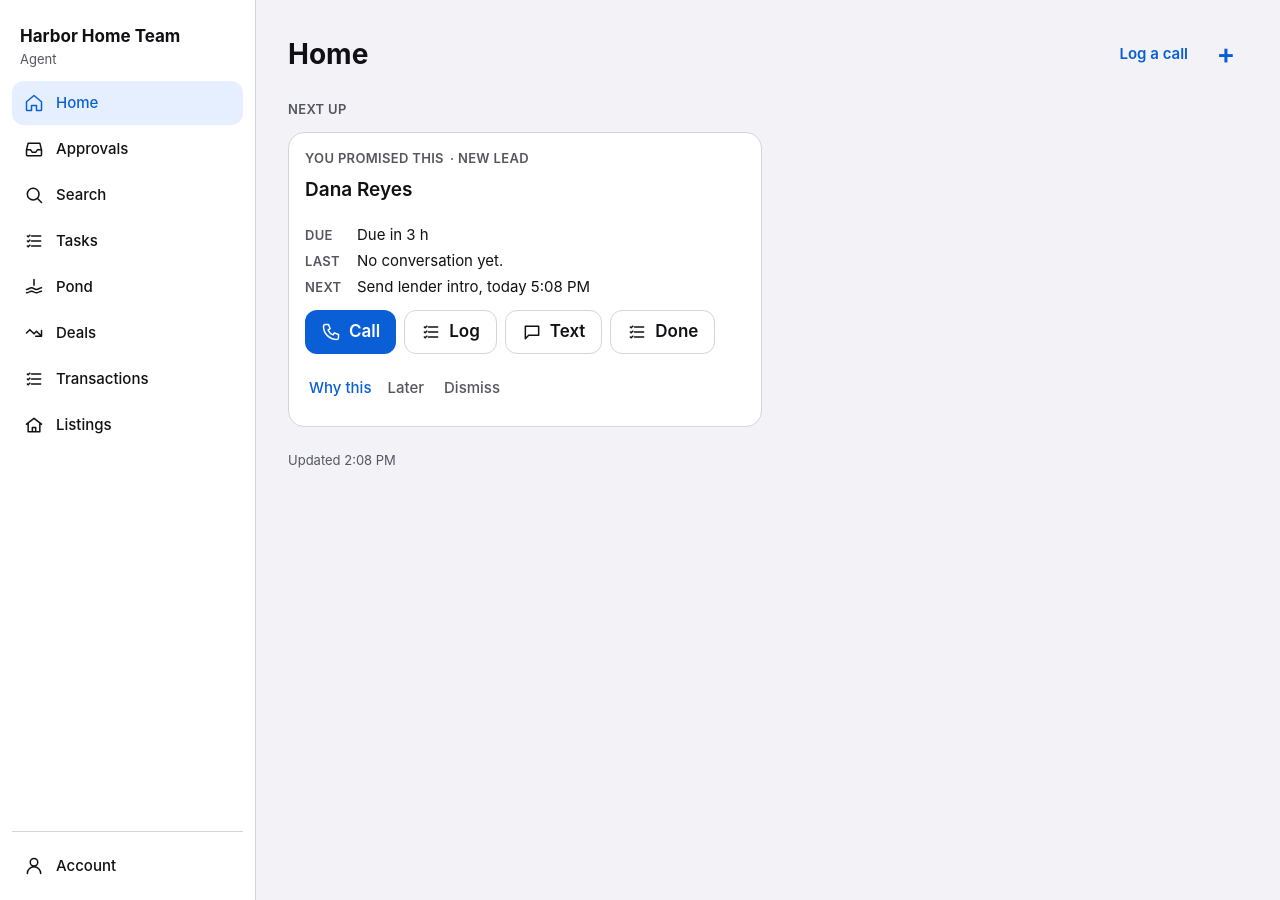
Test: R-TODAY-7: one pass from a follow-up card on Today › choosing another follow-up day is one more tap: 4, and the task is the day chosen
Step 1. Click the button with aria-label "Log for Dana Reyes" → click(450, 332), box [404,310,497,354]
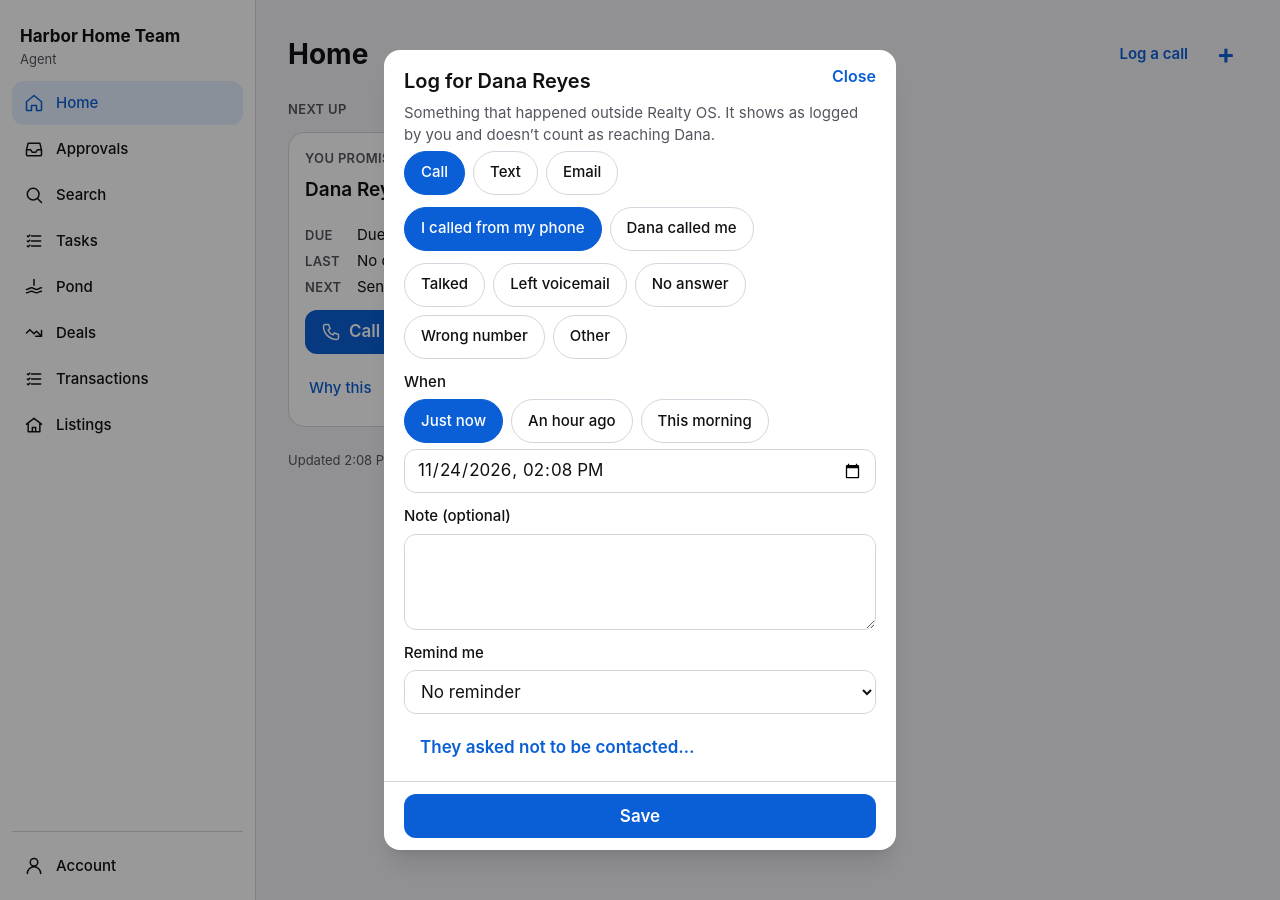
Step 2. Click the button "Left voicemail" → click(560, 285), box [493,263,627,307]
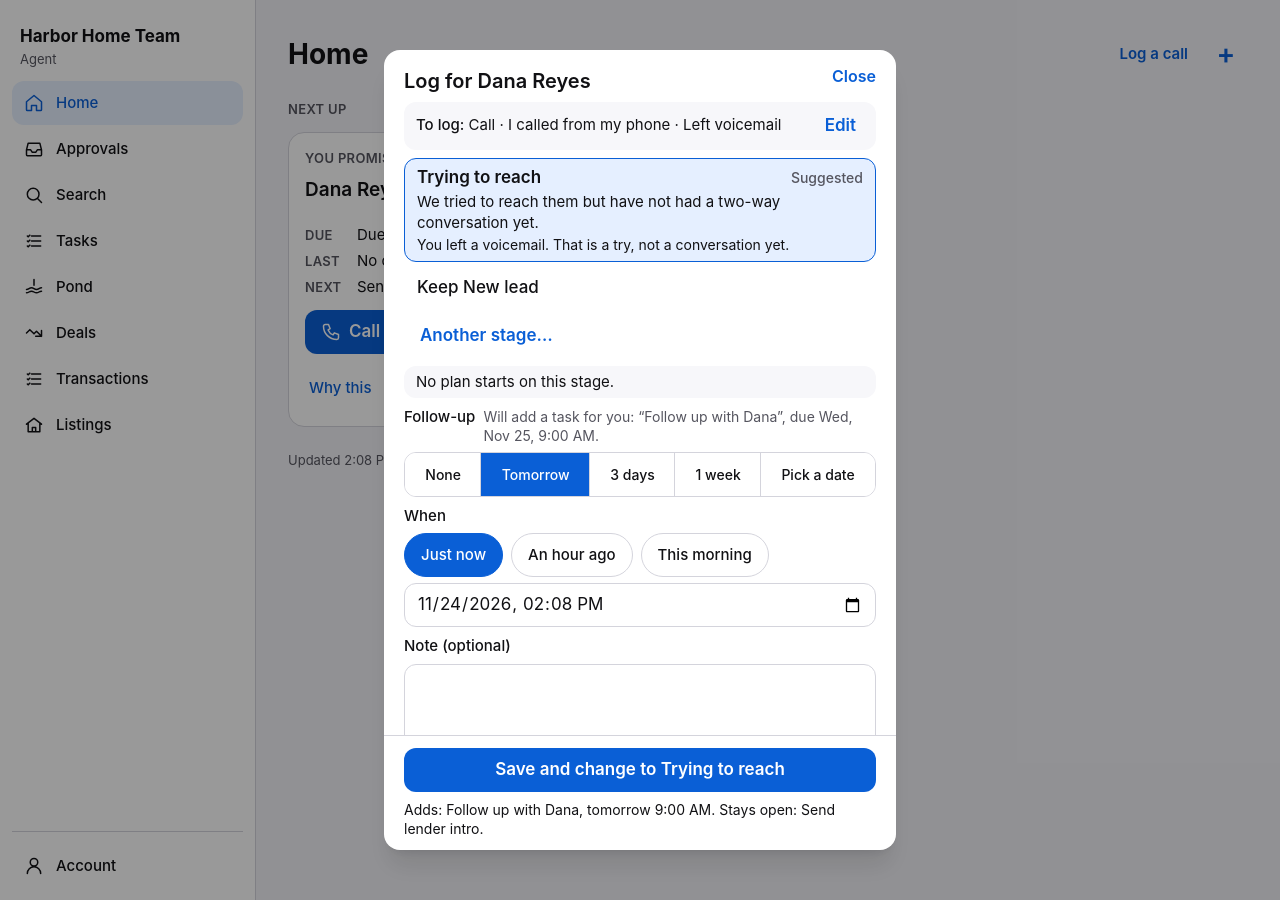
Expected: the radio button labelled "Trying to reach Suggested" is shown, [404,158,876,262]
Step 3. Click the button "3 days" → click(632, 474), box [589,452,675,496]
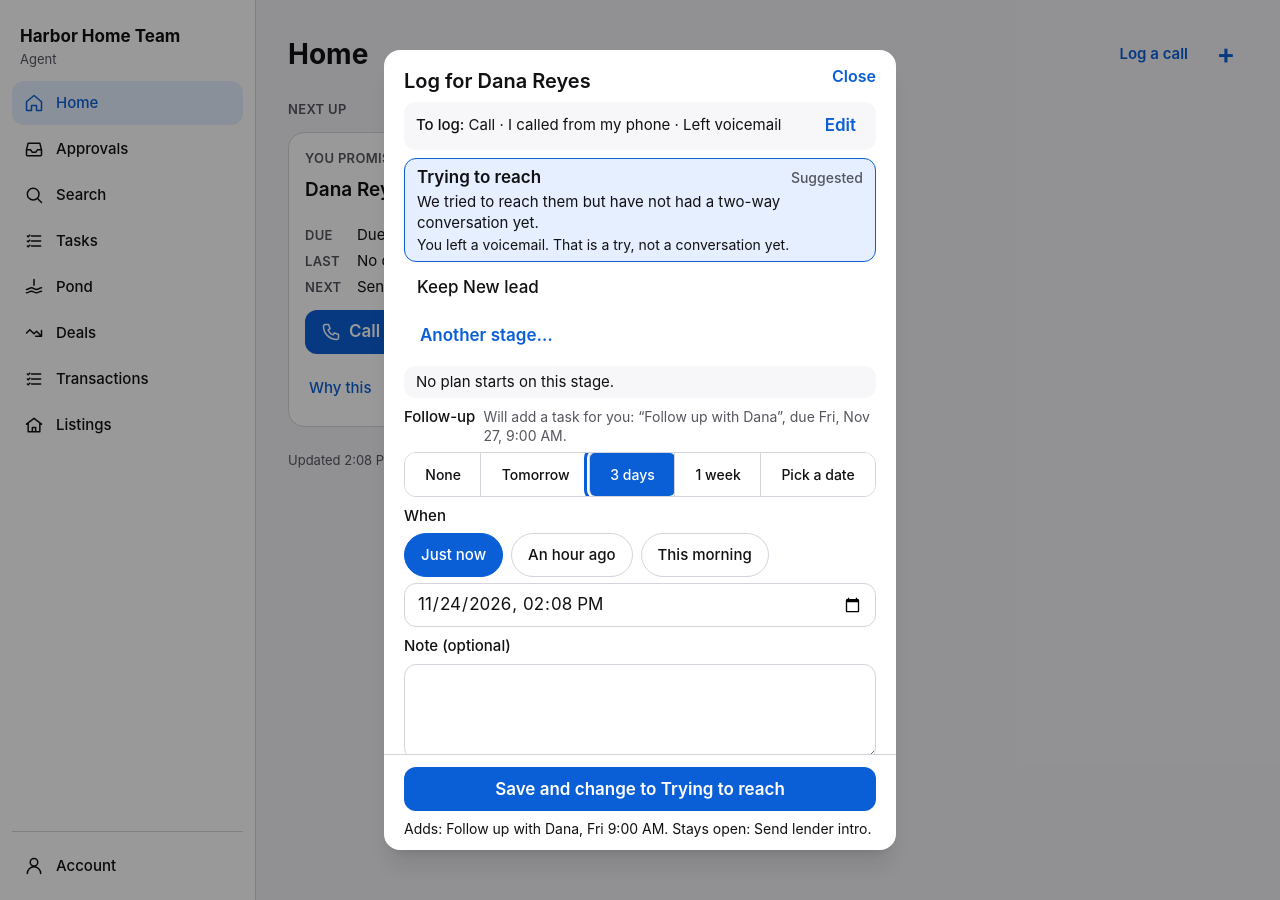
Expected: the button "Save and change to Trying to reach" is enabled
Expected: the text with test id "tap-effects" reads "Adds: Follow up with Dana, Fri 9:00 AM. Stays open: Send lender intro.", [404,820,872,837]
Step 4. Click the button "Save and change to Trying to reach" → click(640, 789), box [404,767,876,811]
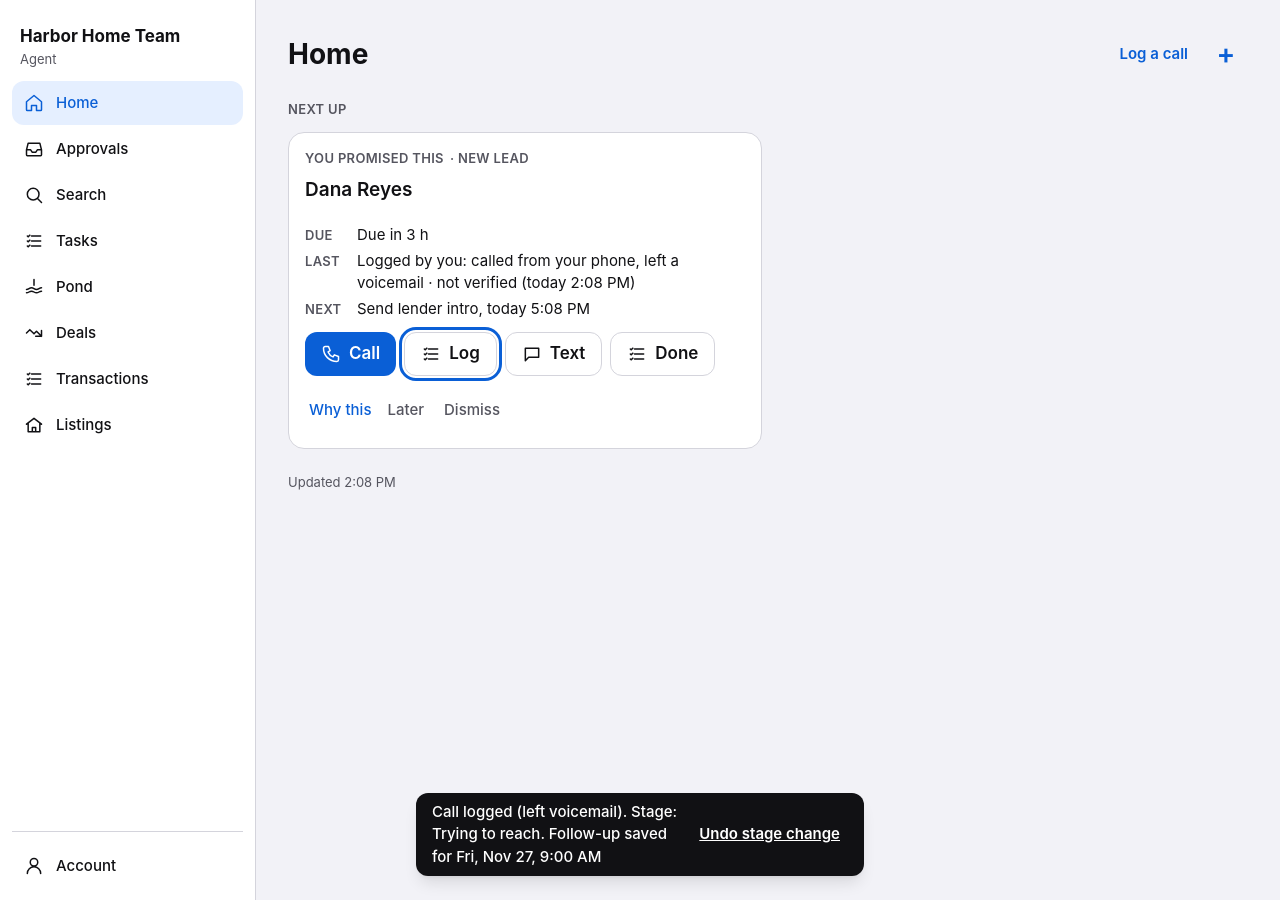
Expected: the dialog is gone
